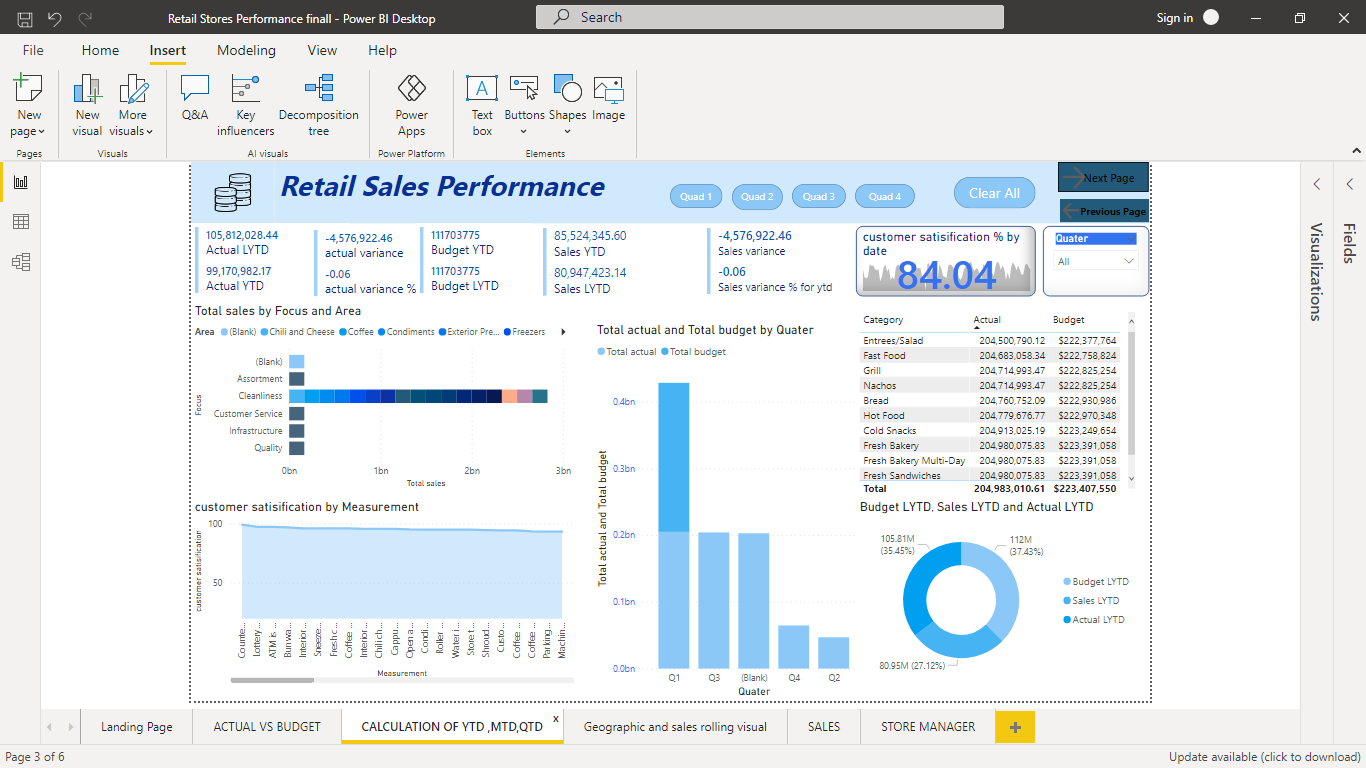

The page's visual inventory and layout, read from the dashboard file:
{"tool":"powerbi","page":{"name":"CALCULATION OF YTD ,MTD,QTD","canvas":[1280,720],"ordinal":2},"visuals":[{"type":"image","box":[0,0,111.7,82],"z":0},{"type":"textbox","box":[111.7,0,1167.9,82],"z":1000},{"type":"multiRowCard","fields":{"Values":["Earnings actual.Actual LYTD","Earnings actual.Actual YTD"]},"box":[0,82,211.5,111.7],"z":2000},{"type":"multiRowCard","fields":{"Values":["Earnings actual.actual variance","Earnings actual.actual variance %"]},"box":[159.5,85.2,181.2,124.4],"z":3000},{"type":"multiRowCard","fields":{"Values":["FreshFoodSales.Sales YTD","FreshFoodSales.Sales LYTD"]},"box":[464.4,82.8,211.2,105.6],"z":4000},{"type":"multiRowCard","fields":{"Values":["FreshFoodSales.Sales variance","FreshFoodSales.Sales variance % for ytd"]},"box":[684.4,83.2,211.5,111.7],"z":5000},{"type":"multiRowCard","fields":{"Values":["Earnings Budget.Budget YTD","Earnings Budget.Budget LYTD"]},"box":[301.2,81.6,154.8,106.8],"z":6000},{"type":"barChart","fields":{"Category":["SurveyCategory.Focus"],"Y":["FreshFoodSales.total sales"],"Series":["SurveyCategory.Area"]},"box":[0,188.9,516.8,250.7],"z":7000},{"type":"stackedAreaChart","fields":{"Category":["SurveyCategory.Measurement"],"Y":["customer satisification.customer satisification"]},"box":[0,450,517,251],"z":8000},{"type":"columnChart","fields":{"Category":["Master Calender.Quater"],"Y":["Earnings actual.Total actual","Earnings Budget.Total budget"]},"box":[537.6,213.6,369.6,506.4],"z":9000},{"type":"tableEx","fields":{"Values":["category master.Category","Sum(Earnings actual.Actual)","Sum(Earnings Budget.Budget)"]},"box":[887.5,194.9,379,255.4],"z":10000},{"type":"donutChart","fields":{"Y":["Earnings Budget.Budget LYTD","FreshFoodSales.Sales LYTD","Earnings actual.Actual LYTD"]},"box":[888,450,379,251],"z":11000},{"type":"slicer","fields":{"Values":["Master Calender.Quater"]},"box":[1137.6,85.2,141.6,93.6],"z":12000},{"type":"kpi","title":"customer satisification % by date","fields":{"Indicator":["customer satisification.customer satisification"],"TrendLine":["customer satisification.date"]},"box":[888,85.2,240,93.6],"z":13000},{"type":"actionButton","box":[1160.4,49.2,118.8,31.2],"z":14000},{"type":"actionButton","box":[1158,0,121.2,39.6],"z":15000},{"type":"shape","box":[1018.8,20.4,109.2,42],"z":16000},{"type":"shape","box":[639.5,29.7,70.3,32.5],"z":17000},{"type":"shape","box":[722,29.7,67.6,35.2],"z":18000},{"type":"shape","box":[803.2,29.7,71.7,32.5],"z":19000},{"type":"shape","box":[887,29.7,79.8,32.5],"z":20000}]}

Visuals, with their boxes on the page's 1280x720 design canvas (x1, y1, x2, y2). These are canvas units, not pixel positions in the 1366x768 screenshot, which may show the page scaled, cropped or inside an application window:
image: Rect(0, 0, 112, 82)
textbox: Rect(112, 0, 1280, 82)
multiRowCard - Earnings actual.Actual LYTD x Earnings actual.Actual YTD: Rect(0, 82, 212, 194)
multiRowCard - Earnings actual.actual variance x Earnings actual.actual variance %: Rect(160, 85, 341, 210)
multiRowCard - FreshFoodSales.Sales YTD x FreshFoodSales.Sales LYTD: Rect(464, 83, 676, 188)
multiRowCard - FreshFoodSales.Sales variance x FreshFoodSales.Sales variance % for ytd: Rect(684, 83, 896, 195)
multiRowCard - Earnings Budget.Budget YTD x Earnings Budget.Budget LYTD: Rect(301, 82, 456, 188)
barChart - SurveyCategory.Focus x FreshFoodSales.total sales: Rect(0, 189, 517, 440)
stackedAreaChart - SurveyCategory.Measurement x customer satisification.customer satisification: Rect(0, 450, 517, 701)
columnChart - Master Calender.Quater x Earnings actual.Total actual: Rect(538, 214, 907, 720)
tableEx - category master.Category x Sum(Earnings actual.Actual): Rect(888, 195, 1266, 450)
donutChart - Earnings Budget.Budget LYTD x FreshFoodSales.Sales LYTD: Rect(888, 450, 1267, 701)
slicer - Master Calender.Quater: Rect(1138, 85, 1279, 179)
"customer satisification % by date" kpi: Rect(888, 85, 1128, 179)
actionButton: Rect(1160, 49, 1279, 80)
actionButton: Rect(1158, 0, 1279, 40)
shape: Rect(1019, 20, 1128, 62)
shape: Rect(640, 30, 710, 62)
shape: Rect(722, 30, 790, 65)
shape: Rect(803, 30, 875, 62)
shape: Rect(887, 30, 967, 62)
